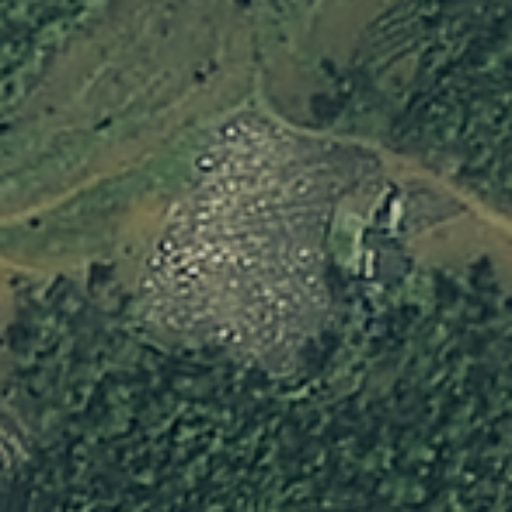landslide: (144, 112, 378, 351)
